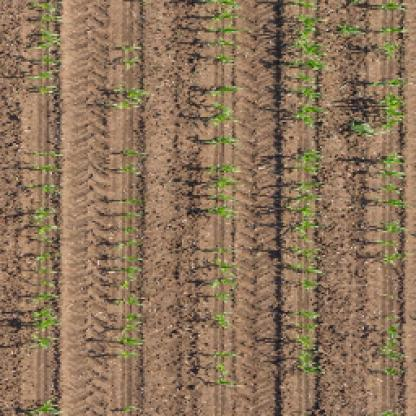c: (377, 2, 405, 382), (284, 151, 328, 382), (115, 42, 143, 361), (211, 0, 244, 218), (29, 148, 62, 356), (281, 4, 325, 124), (208, 247, 239, 387), (32, 0, 64, 101)
